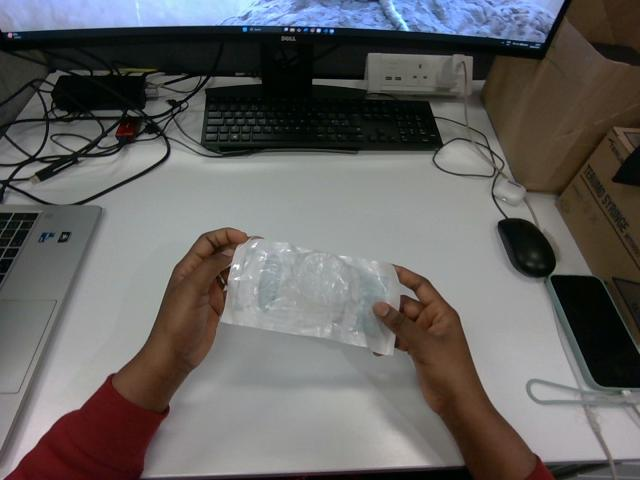gallipot: (221, 239, 399, 354)
